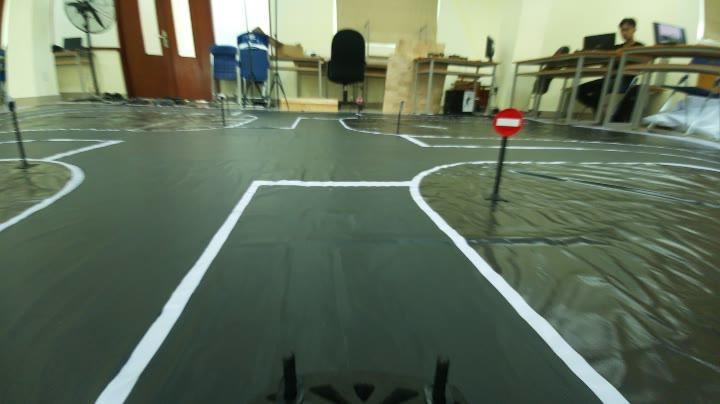no_entry: (489, 102, 527, 136)
